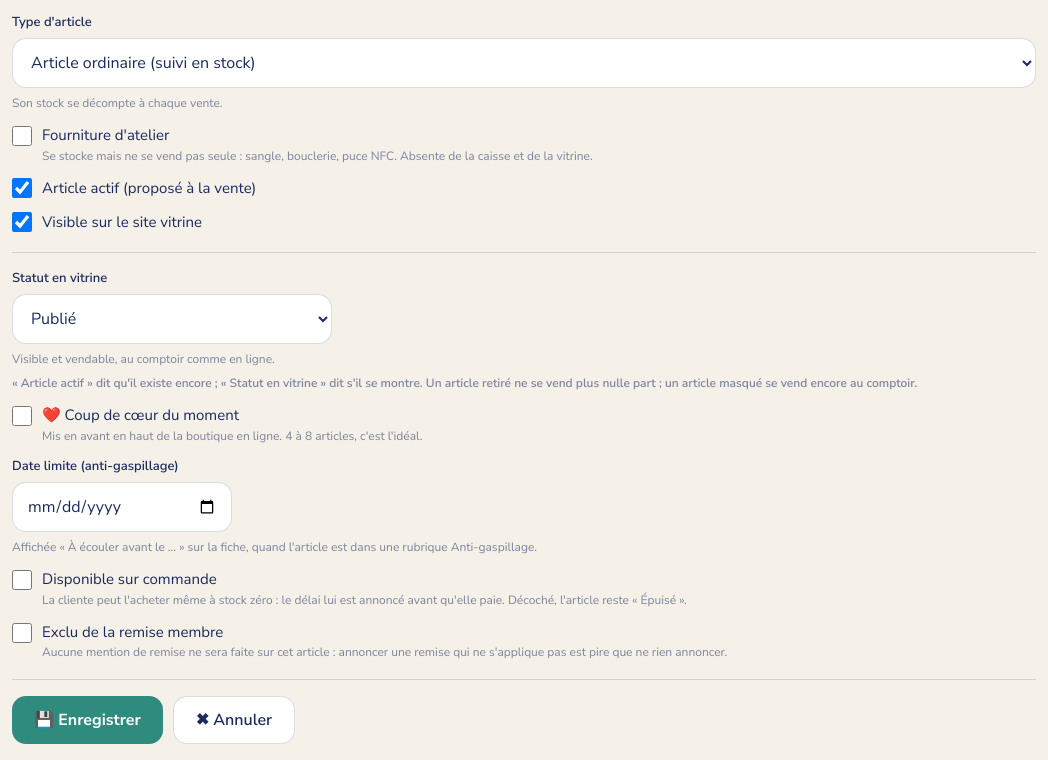
Test: la case « Disponible sur commande » › le délai du fournisseur fait taire l'avertissement, et s'annonce
(page scrolled)
Click the checkbox labelled "Disponible sur commande".
click(22, 580)  # box [12,570,32,590]
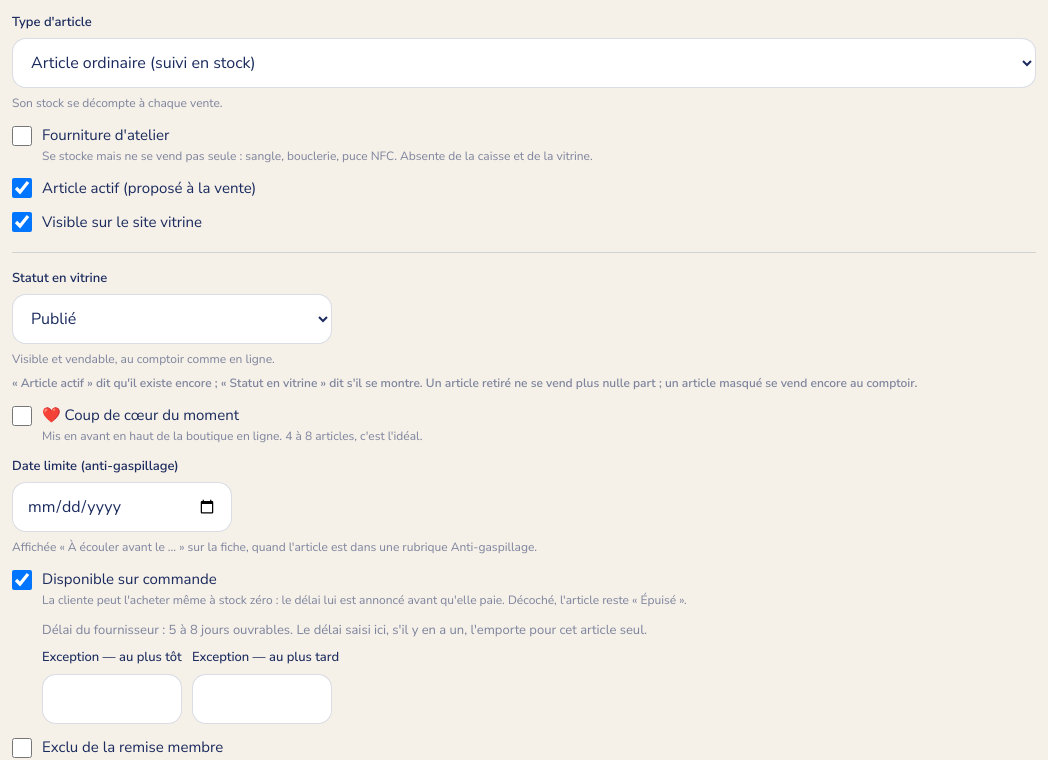
Expected: the text "Délai du fournisseur : 5 à 8 jours ouvrables" is shown, [42,620,293,638]
